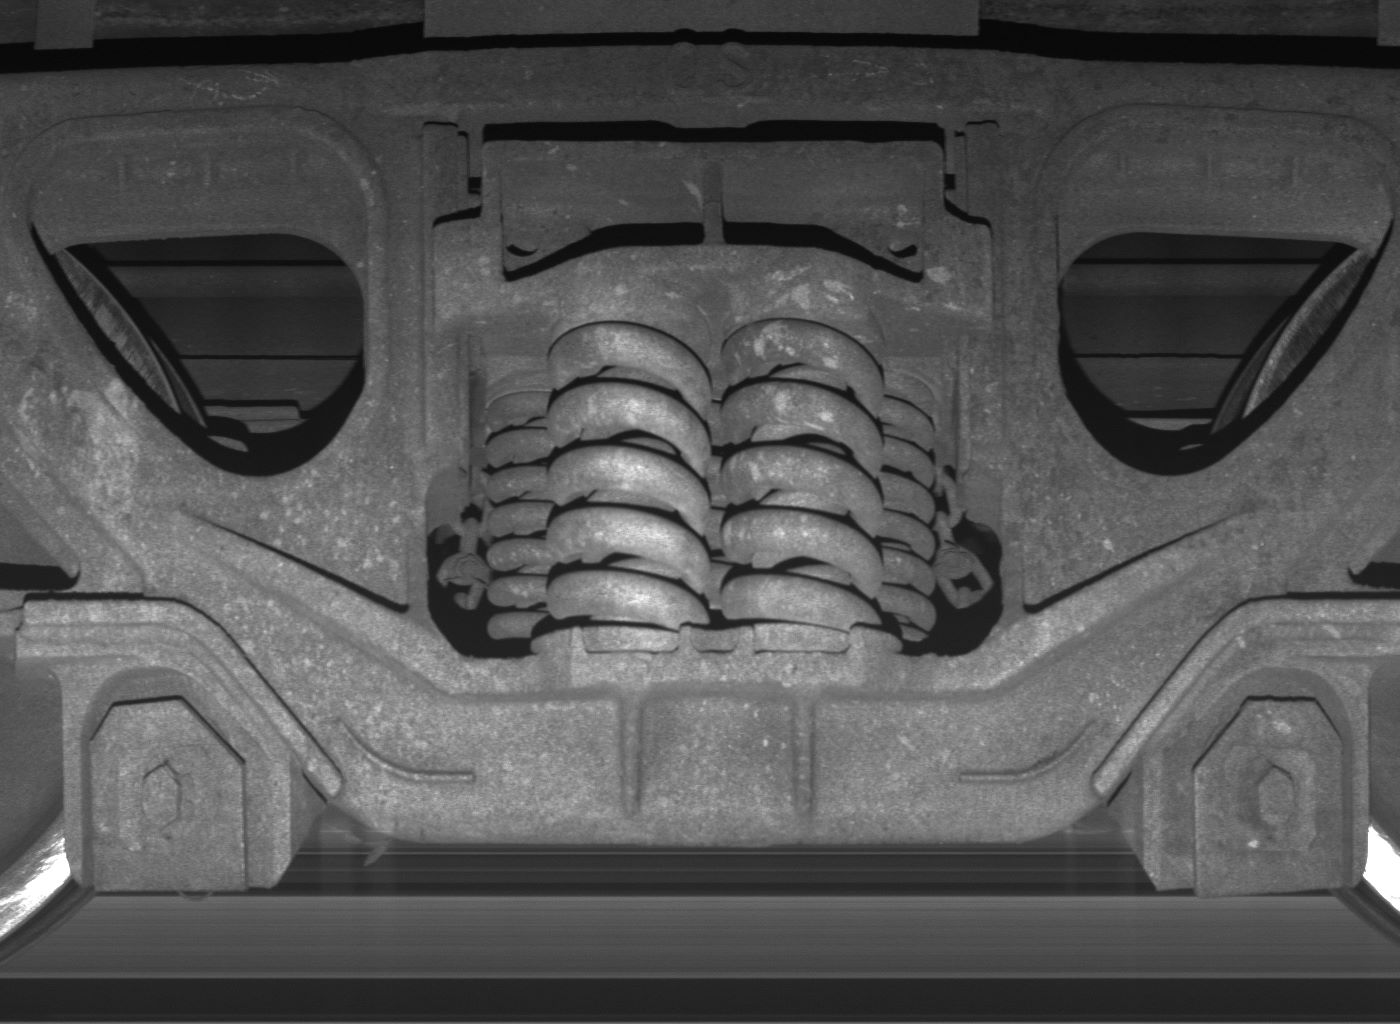normal: (1143, 657, 1370, 900), (64, 655, 296, 891)
